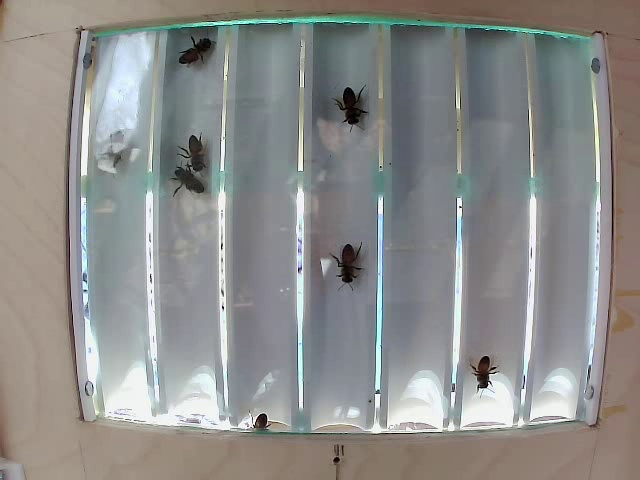bee: (188, 28, 229, 92), (333, 250, 366, 307), (466, 352, 501, 396), (187, 128, 218, 172), (177, 165, 211, 201), (337, 75, 364, 117)
